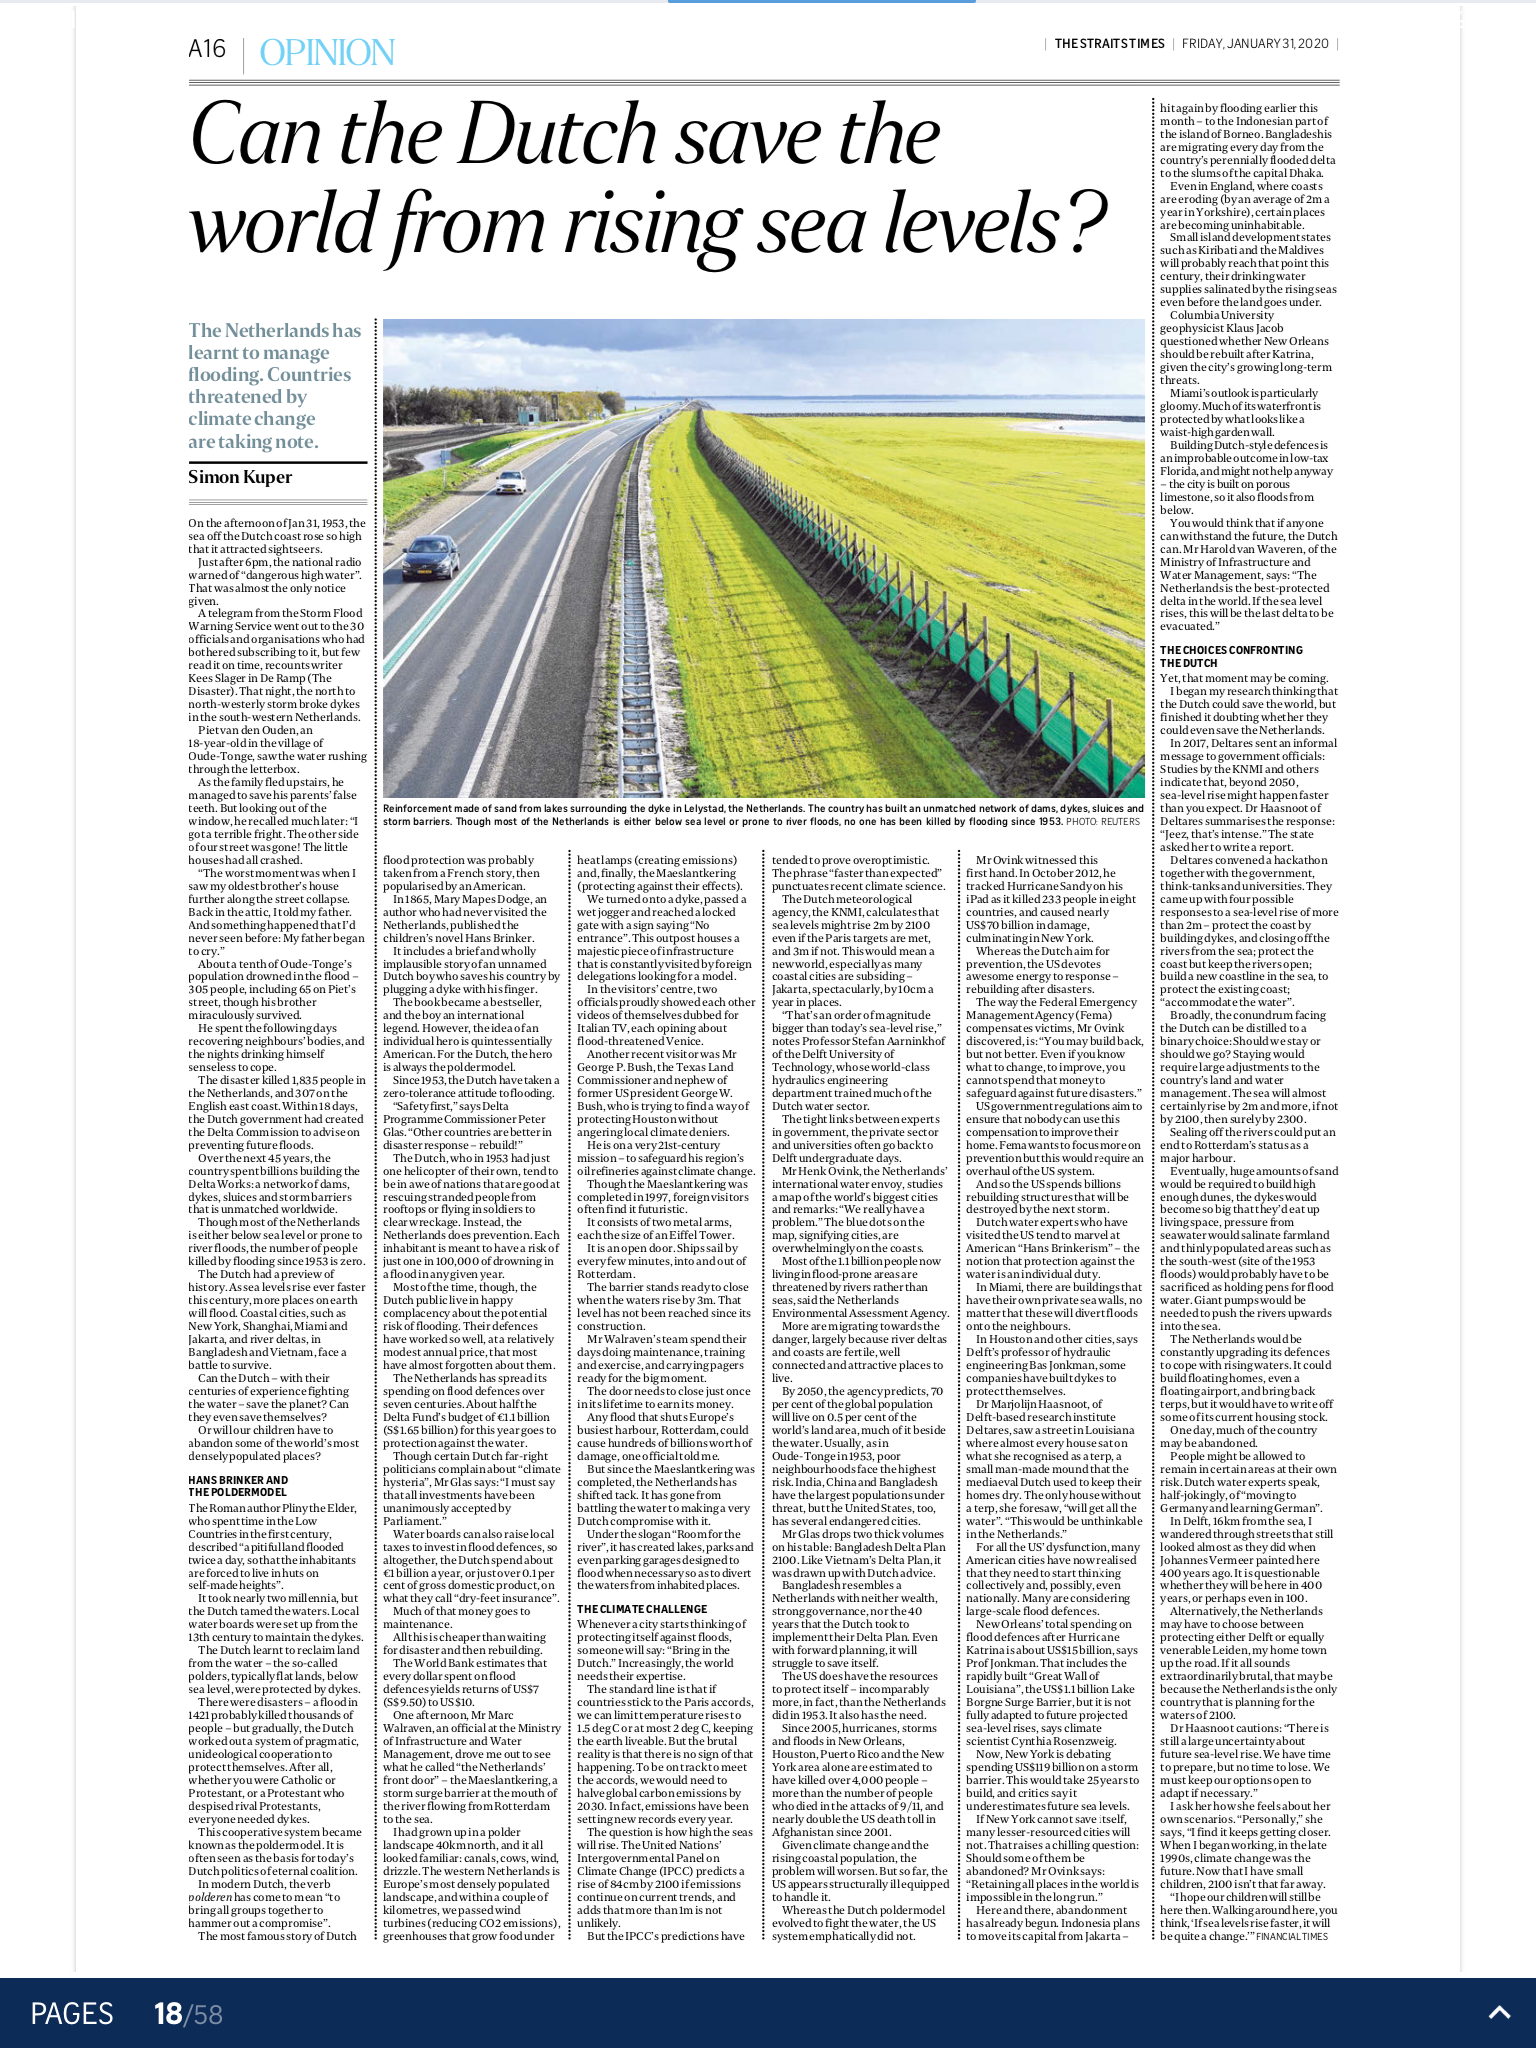Byline: (184, 464, 295, 489)
Headline: (189, 97, 1113, 269)
Illustration: (381, 803, 1144, 832)
Image: (387, 319, 1144, 798)
Text: (1158, 103, 1339, 1950), (190, 514, 363, 1946), (766, 848, 949, 1945), (381, 851, 563, 1946), (576, 851, 758, 1946), (960, 850, 1142, 1945)
